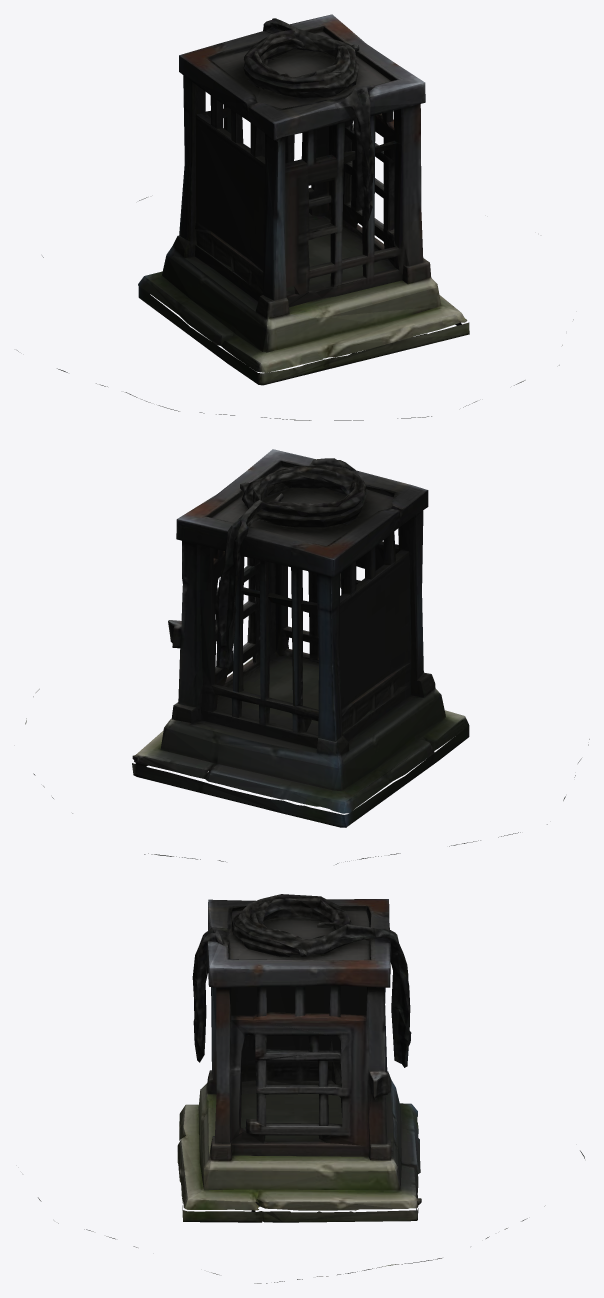
The model's file is cage_iron.glb.
3 views of the same model, one above another, from view 1: azimuth 30°, elevation 25°; view 2: azimuth 150°, elevation 25°; view 3: azimuth 270°, elevation 25° (orthographic). The views are drawn at different scales.
Parts seen in each view (by area): view 1: world; view 2: world; view 3: world.
Part boxes in pixels (box(x1,y1,x2,y2)): world: box(17, 14, 573, 420); world: box(25, 449, 589, 864); world: box(38, 894, 584, 1283).
Bounding box in the file's own units: 0.9927 × 0.4823 × 0.9767.
Materials: 1 (1 with a texture image).
